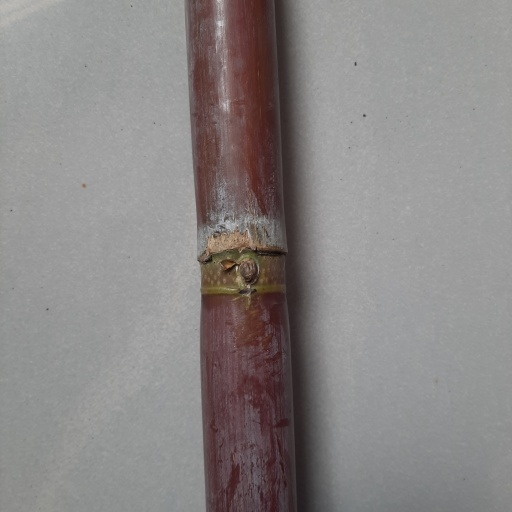Bud: (237, 257, 261, 287)
